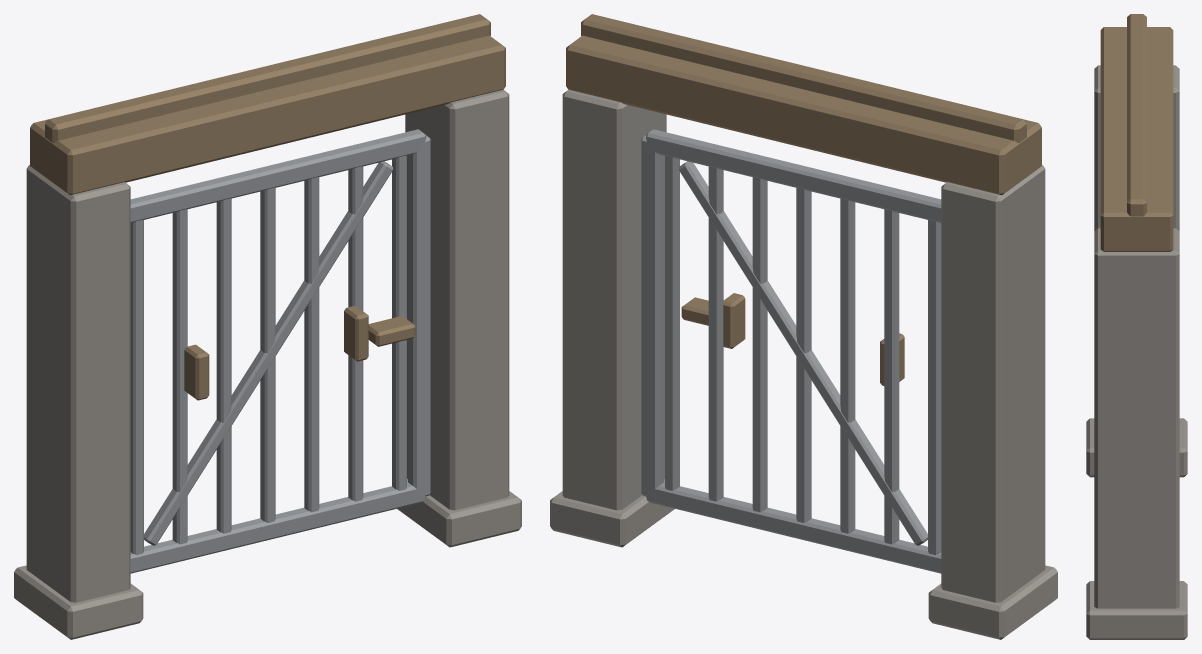
The model's file is gate.glb.
The picture shows the model from 3 angles, left to right: view 1: azimuth 30°, elevation 25°; view 2: azimuth 150°, elevation 25°; view 3: azimuth 270°, elevation 25°; orthographic projection. The views are drawn at different scales.
Visible parts, largest first — view 1: gate; view 2: gate; view 3: gate.
Boxes of the visible parts, <box> form: gate: <box>14,14,521,639</box>; gate: <box>550,14,1057,639</box>; gate: <box>1086,14,1187,639</box>.
Bounding box in the file's own units: 2.28 × 2.38 × 0.5.
